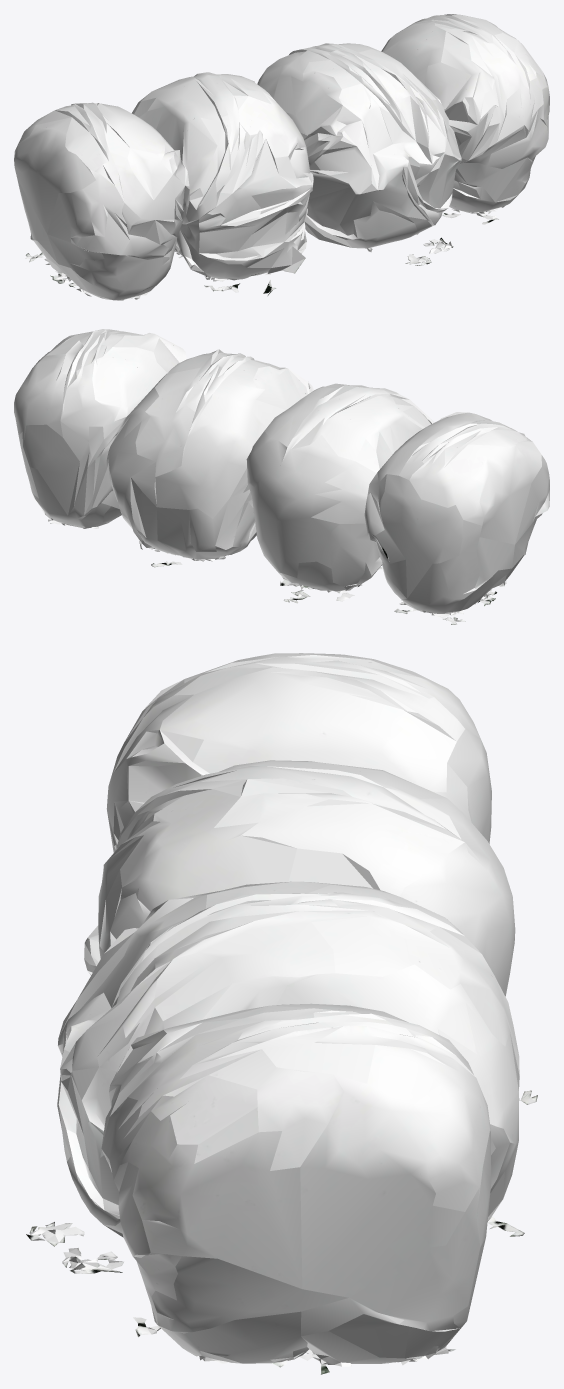
File: silage_bales.glb
3 renders of one model, top to bottom at view 1: azimuth 30°, elevation 25°; view 2: azimuth 150°, elevation 25°; view 3: azimuth 270°, elevation 25°, orthographic. The views are drawn at different scales.
Bounding box in the file's own units: 1.86 × 0.6175 × 0.8735.
1 material, 1 textured.
